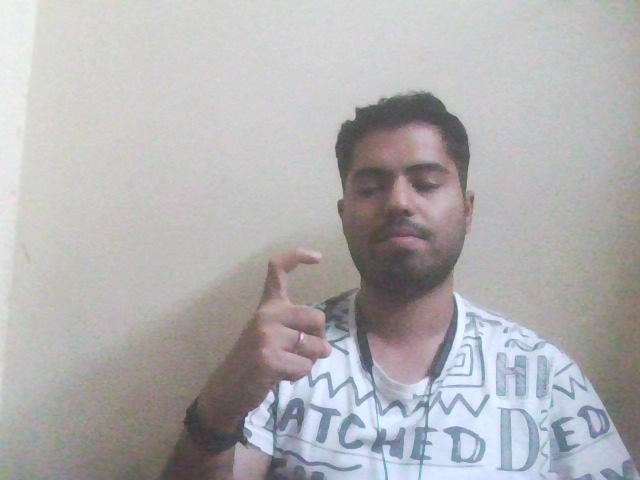No: (194, 230, 345, 413)
